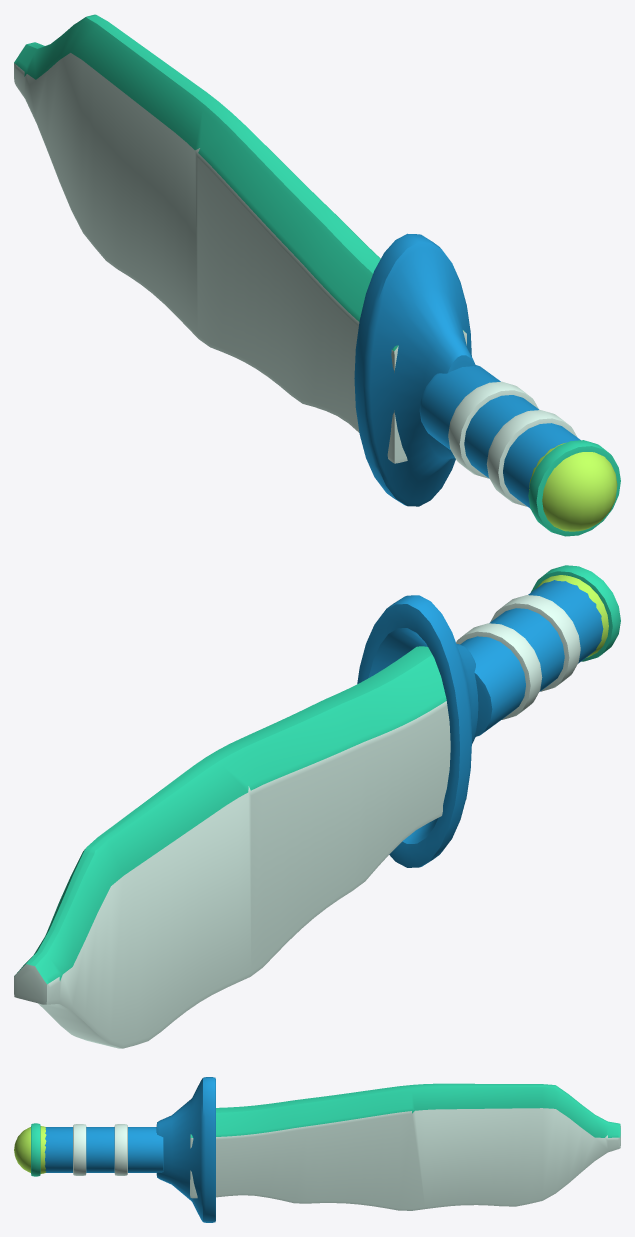
File: DrownedBellwarden.glb
The picture shows the model from 3 angles, top to bottom: view 1: azimuth 30°, elevation 25°; view 2: azimuth 150°, elevation 25°; view 3: azimuth 270°, elevation 25°; orthographic projection. The views are drawn at different scales.
Parts seen in each view (by area): view 1: DrownedBellwarden; view 2: DrownedBellwarden; view 3: DrownedBellwarden.
Boxes of the visible parts, x1=… form: DrownedBellwarden: x1=14, y1=14, x2=620, y2=536; DrownedBellwarden: x1=14, y1=565, x2=620, y2=1048; DrownedBellwarden: x1=14, y1=1077, x2=620, y2=1222.
Bounding box in the file's own units: 0.1092 × 0.26 × 1.
Materials: 1 (1 with a texture image).
